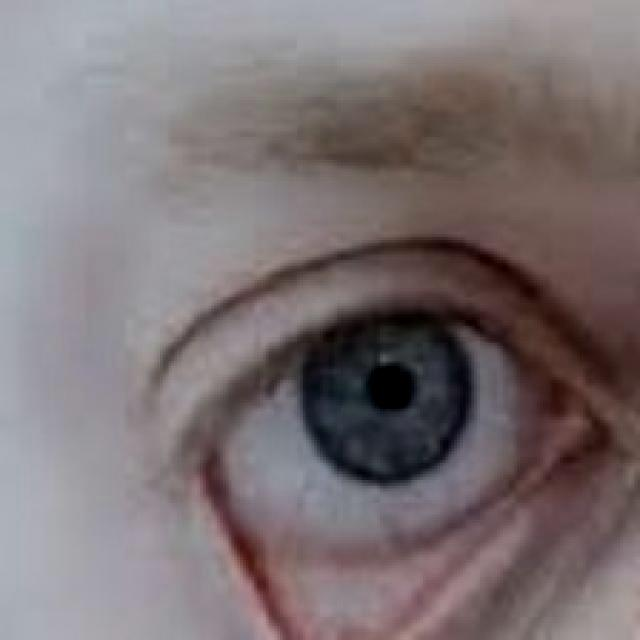conjunctiva_pallor: (225, 445, 572, 640)
